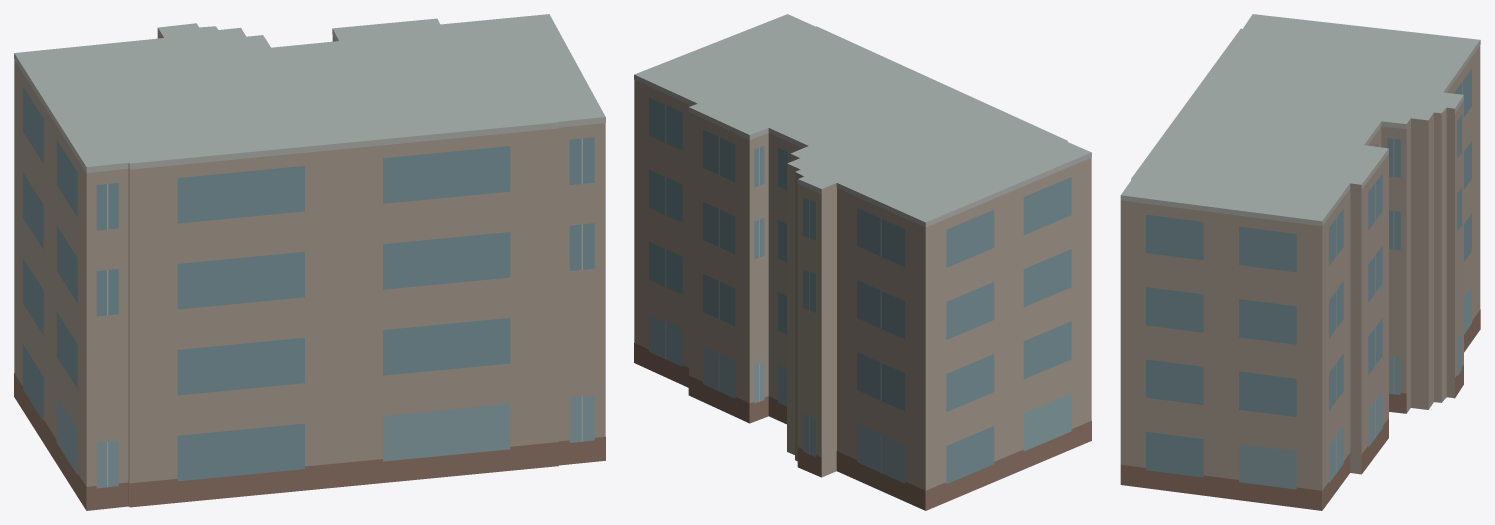
File: survey-upis-32655237.glb
The picture shows the model from 3 angles, left to right: view 1: azimuth 30°, elevation 25°; view 2: azimuth 150°, elevation 25°; view 3: azimuth 270°, elevation 25°; orthographic projection. The views are drawn at different scales.
Parts seen in each view (by area): view 1: survey-upis-32655237.tmp; view 2: survey-upis-32655237.tmp; view 3: survey-upis-32655237.tmp.
Part boxes in pixels (x1,y1,x2,y2): survey-upis-32655237.tmp: [14, 14, 605, 510]; survey-upis-32655237.tmp: [634, 14, 1091, 510]; survey-upis-32655237.tmp: [1120, 14, 1480, 510].
Size of the model in its own units: 21.46 by 13.97 by 15.74.
